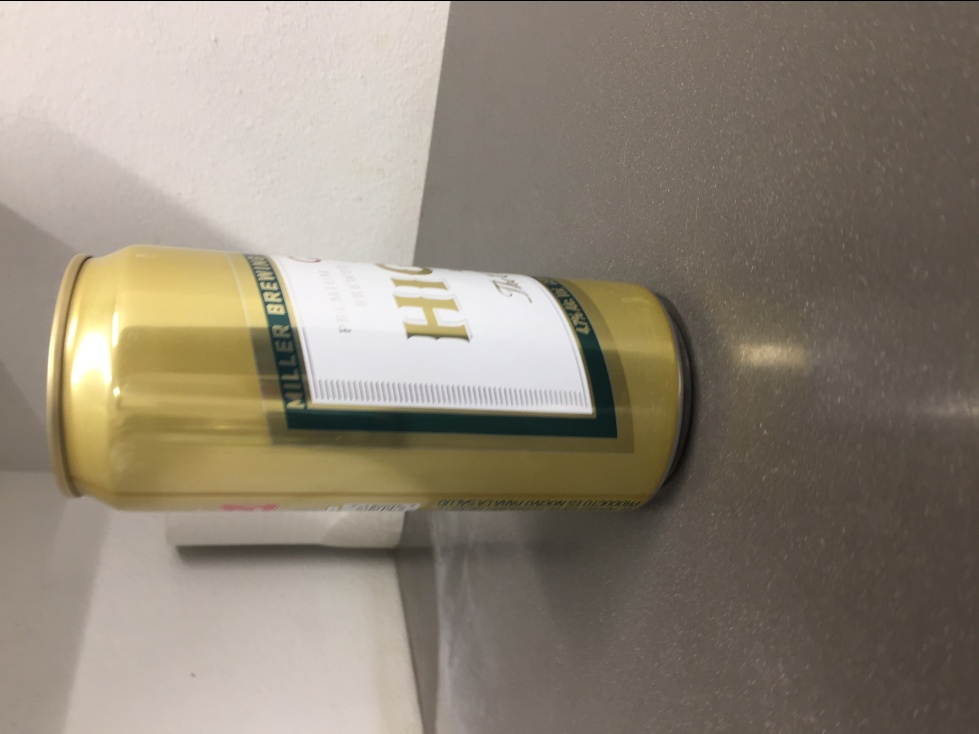miller: (44, 237, 696, 516)
